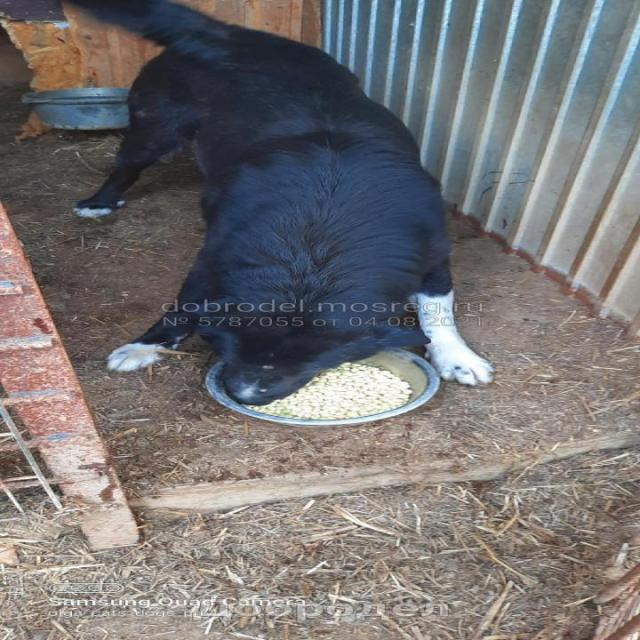dog: (84, 10, 478, 416)
